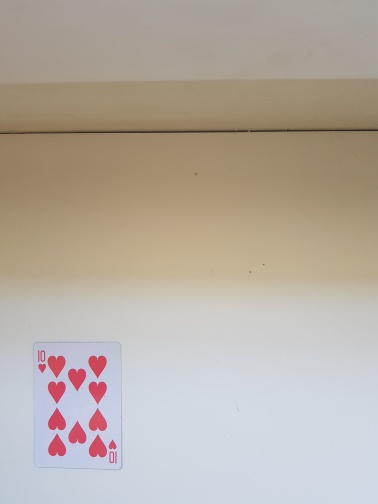ten: (30, 341, 124, 471)
